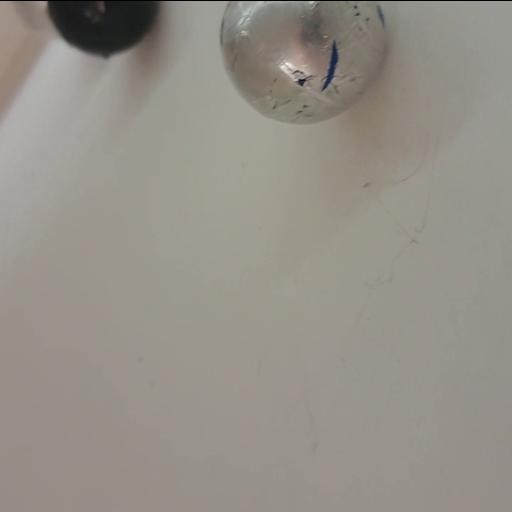alive: (218, 0, 390, 128), (14, 2, 58, 30)
dead: (42, 0, 154, 58)
